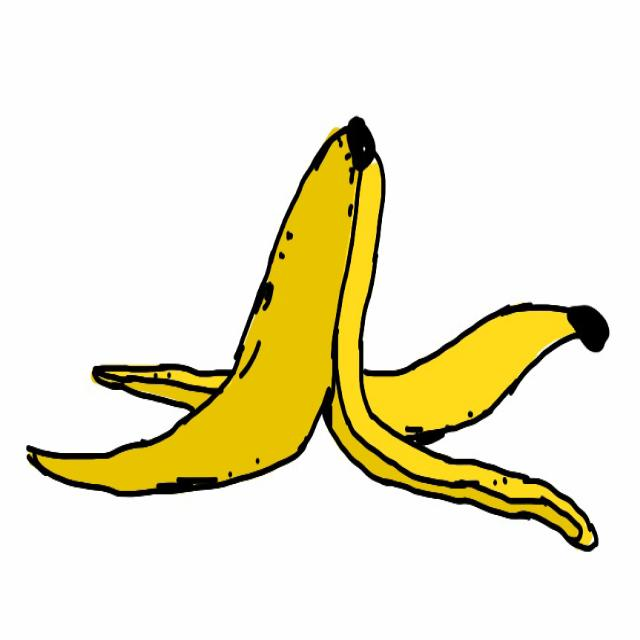banana_peel: (40, 99, 626, 560)
